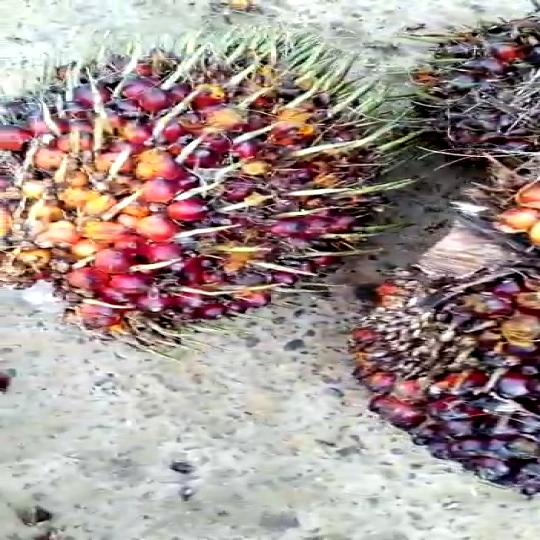masak: (0, 29, 445, 352)
